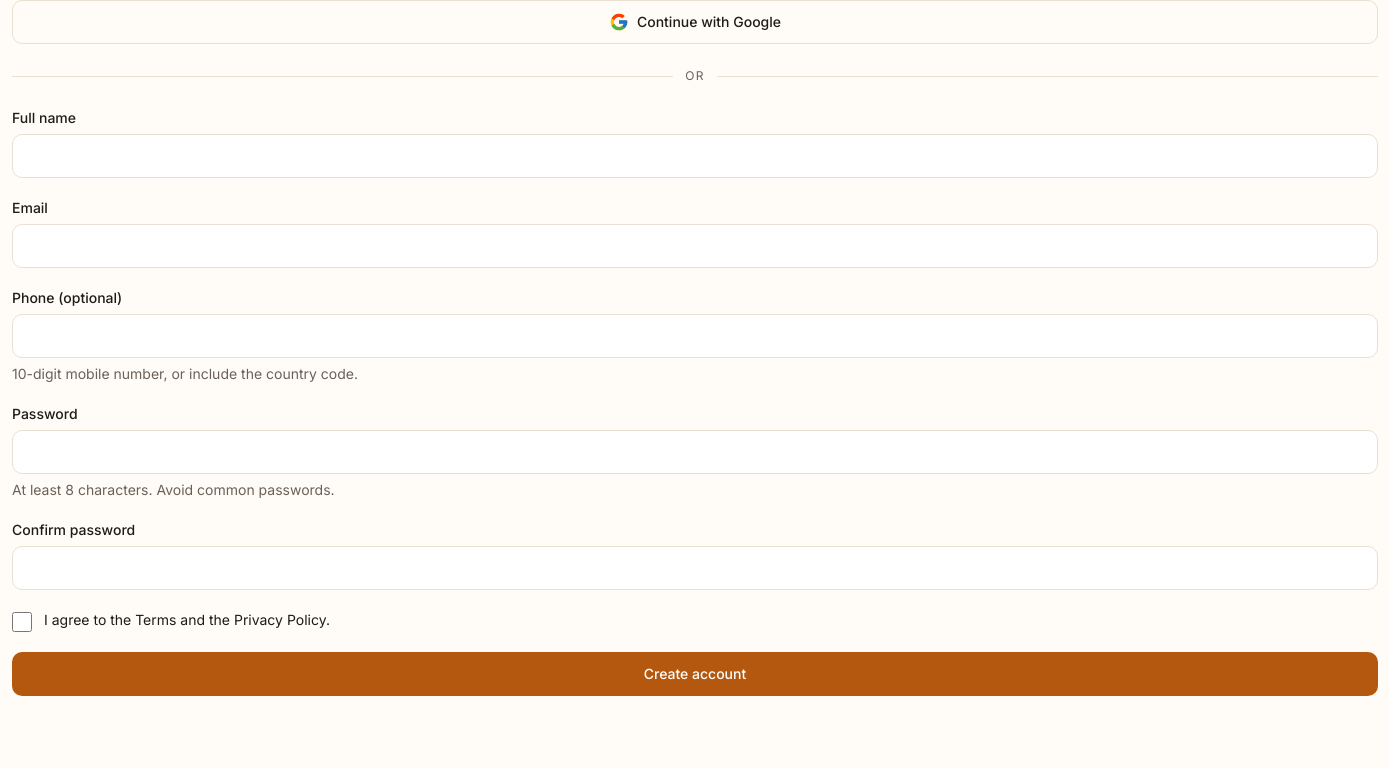
it: RegisterForm › shows server validation messages next to the right field
Type "Sunita Sharma" into the field labelled "Full name" at (695, 156), box top-left (12, 134), bottom-right (1378, 178)
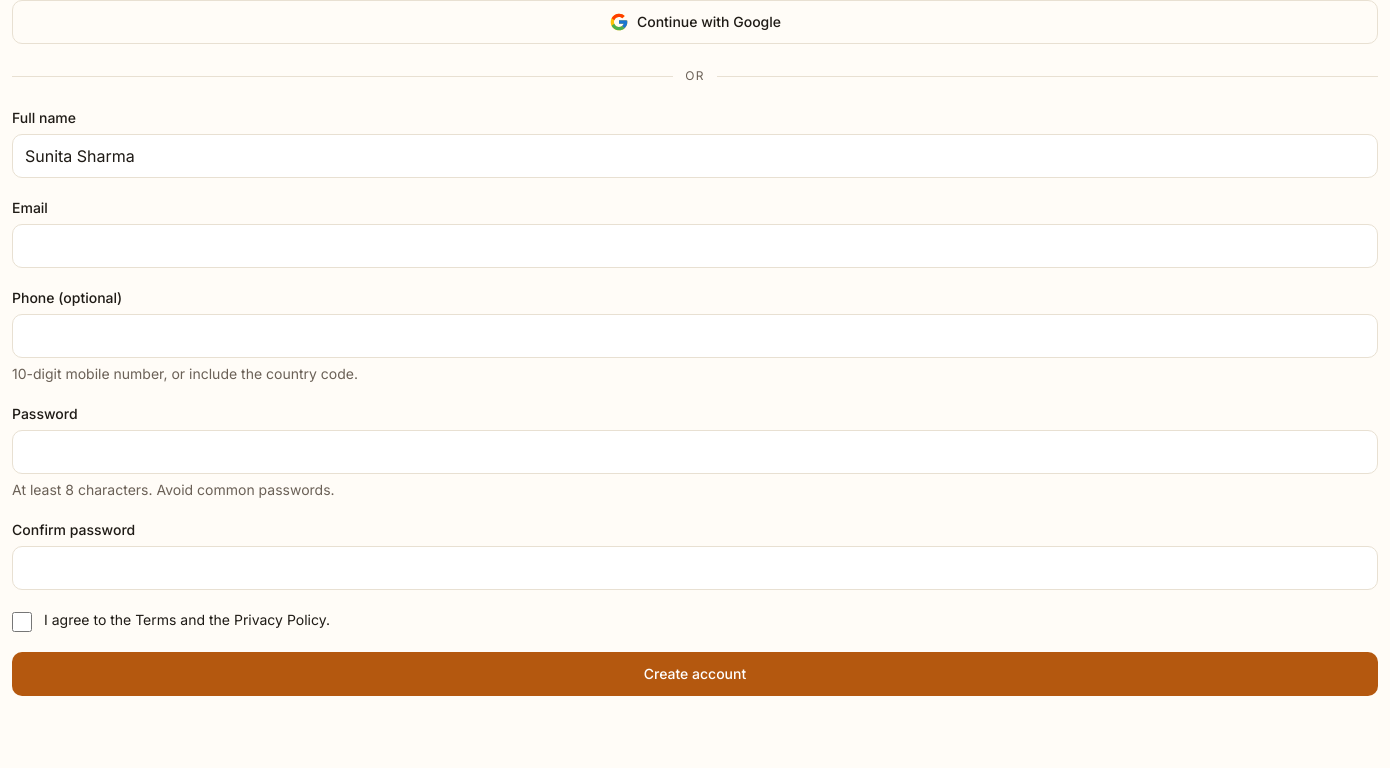
Type "sunita@example.com" into the field labelled "Email" at (695, 246), box top-left (12, 224), bottom-right (1378, 268)
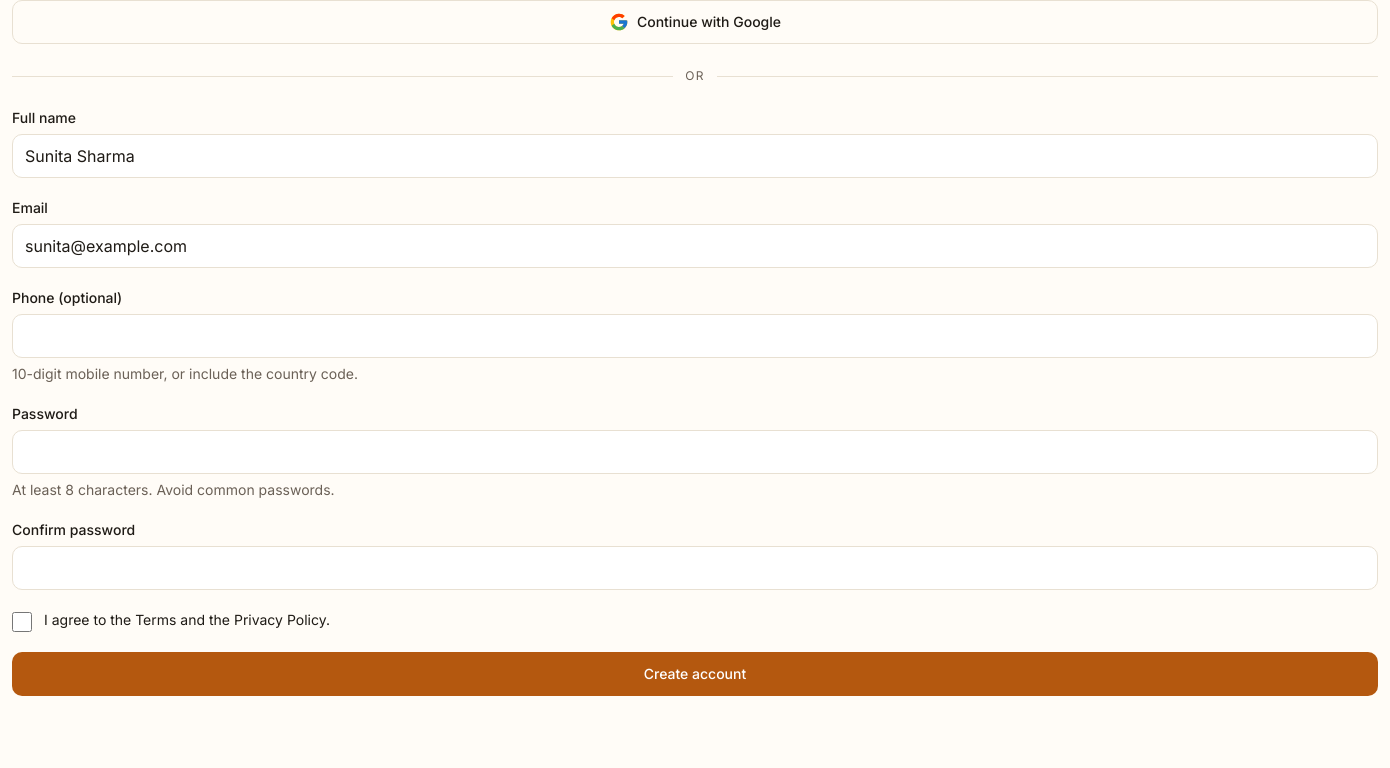
Type "Strong-Pass-1" into the password field labelled "Password" at (695, 452), box top-left (12, 430), bottom-right (1378, 474)
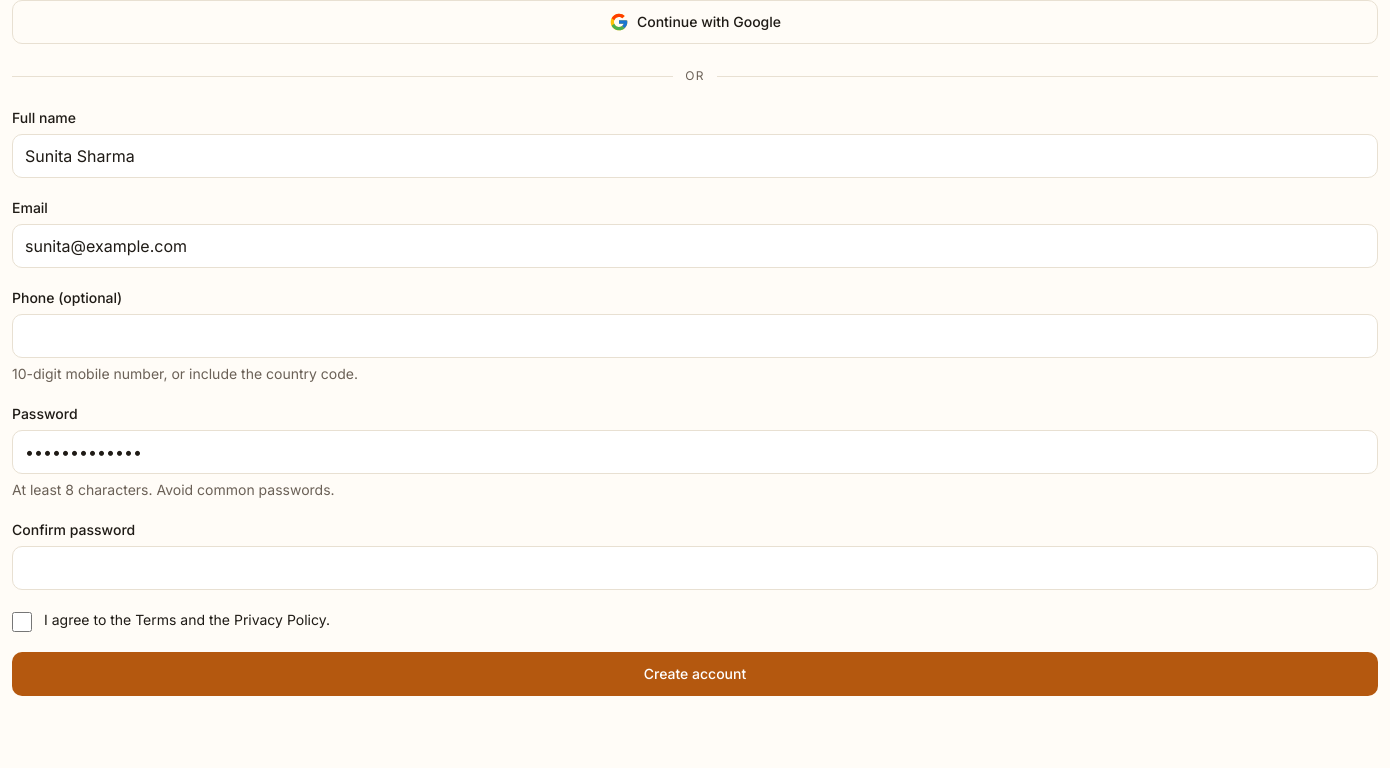
Type "Strong-Pass-1" into the password field labelled "Confirm password" at (695, 568), box top-left (12, 546), bottom-right (1378, 590)
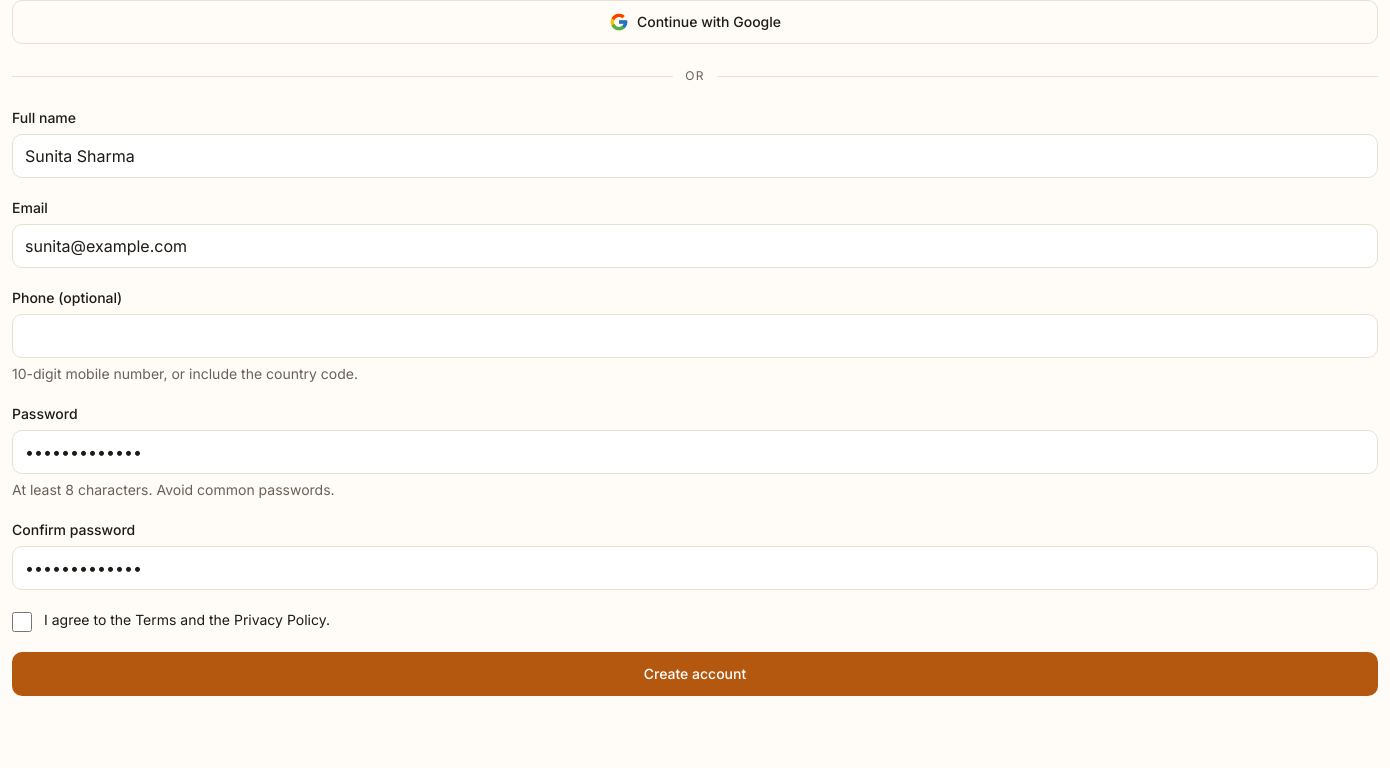
Click the checkbox at (22, 622), box top-left (12, 612), bottom-right (32, 632)
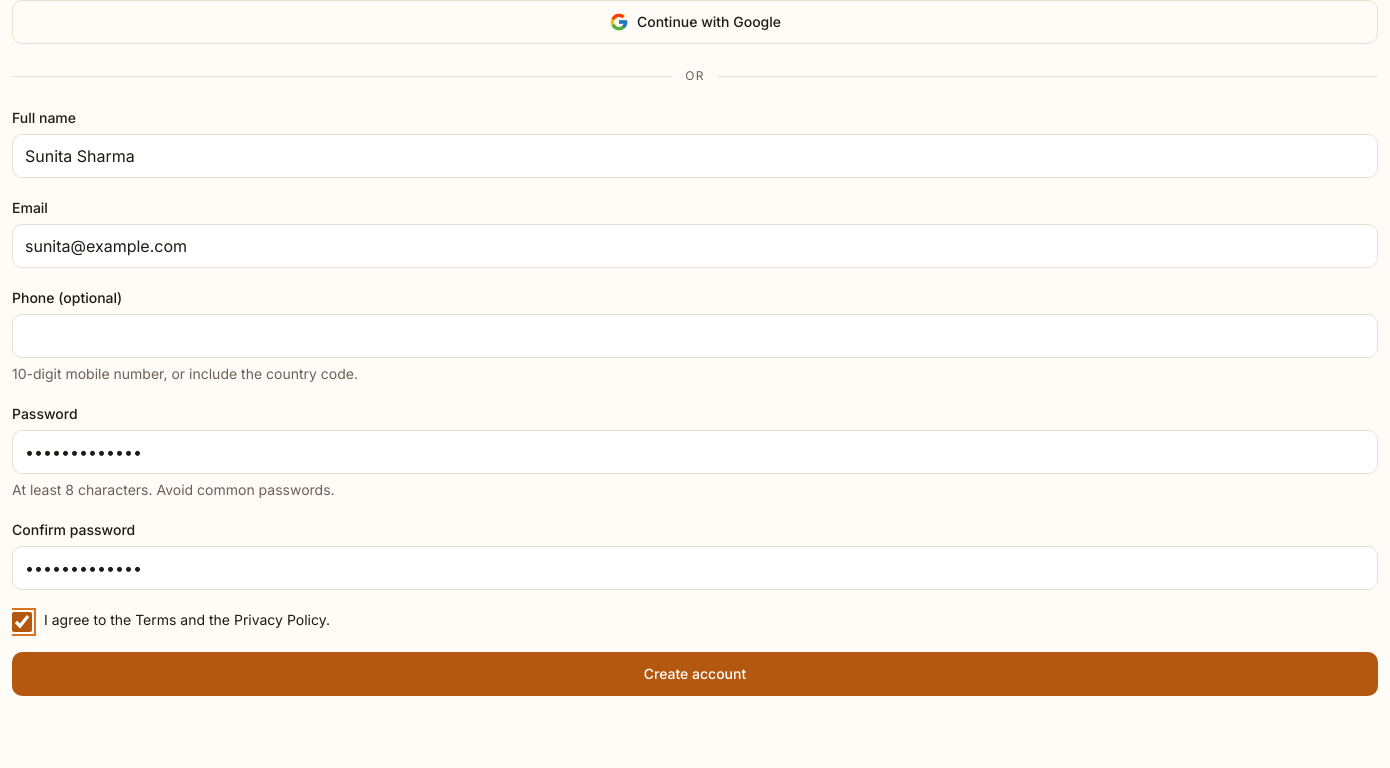
Click the button "Create account" at (695, 674), box top-left (12, 652), bottom-right (1378, 696)
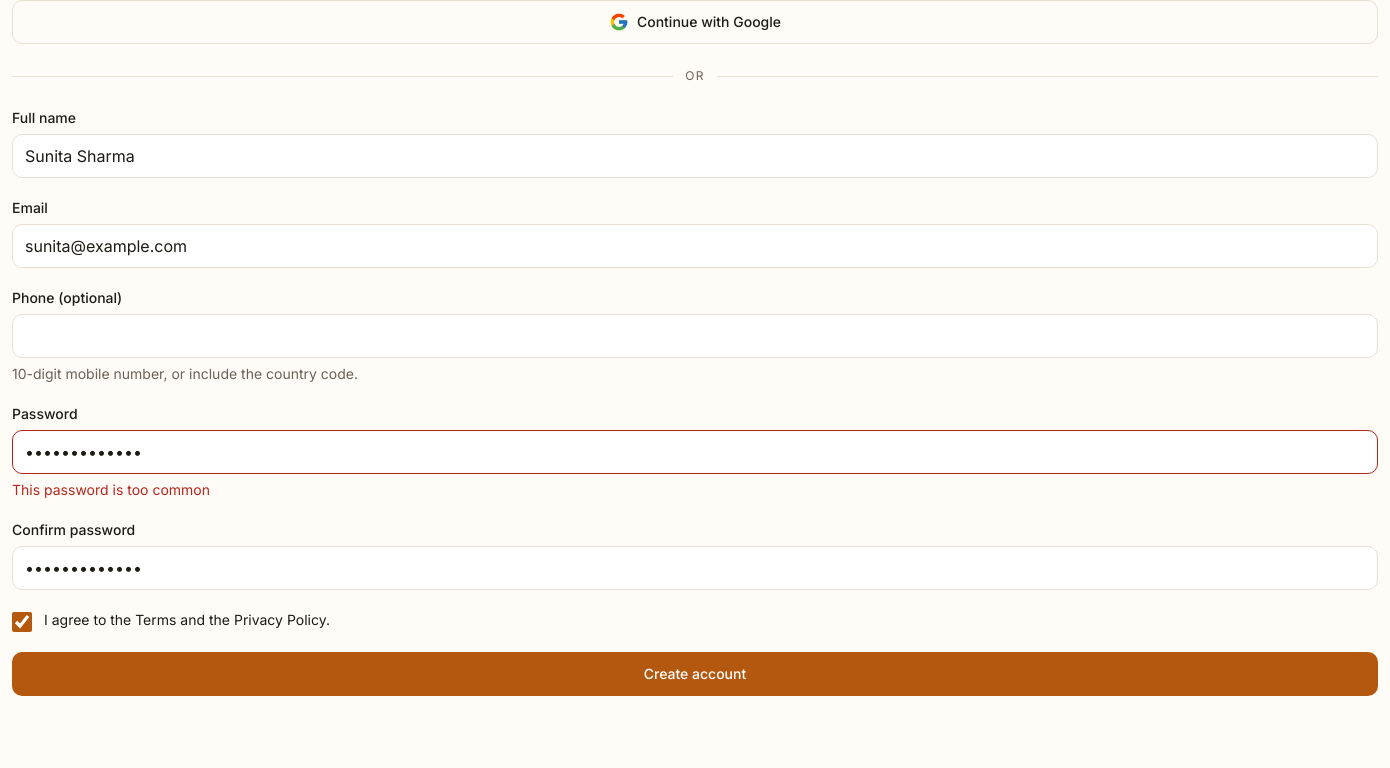
Check: the text "This password is too common" is shown, box top-left (12, 481), bottom-right (210, 498)
